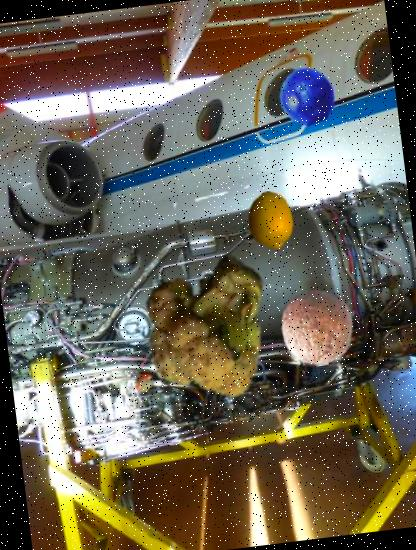Cauliflower: (126, 241, 290, 405)
Huckleberry: (274, 64, 338, 128)
Lemon: (237, 188, 304, 254)
Walnut: (275, 286, 360, 370)
